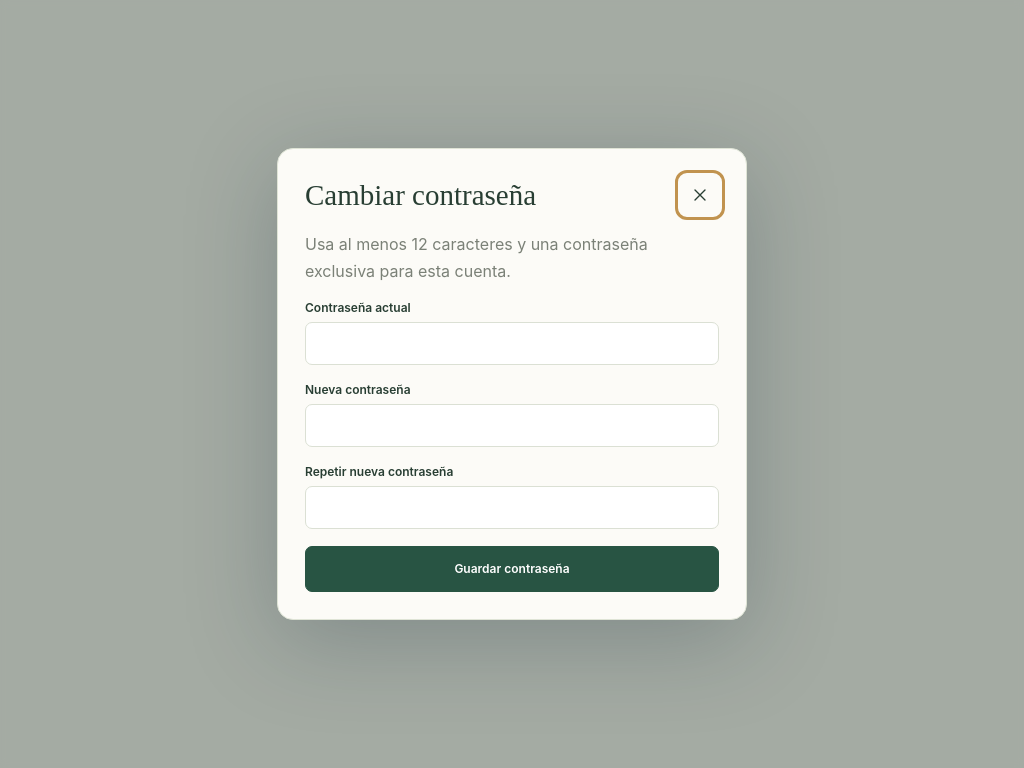
public and private boundaries › requires the current password before updating and revokes other refresh sessions
Type "old-test-only" into the password field labelled "Contraseña actual" at (512, 343), box x1=305 y1=322 x2=719 y2=365
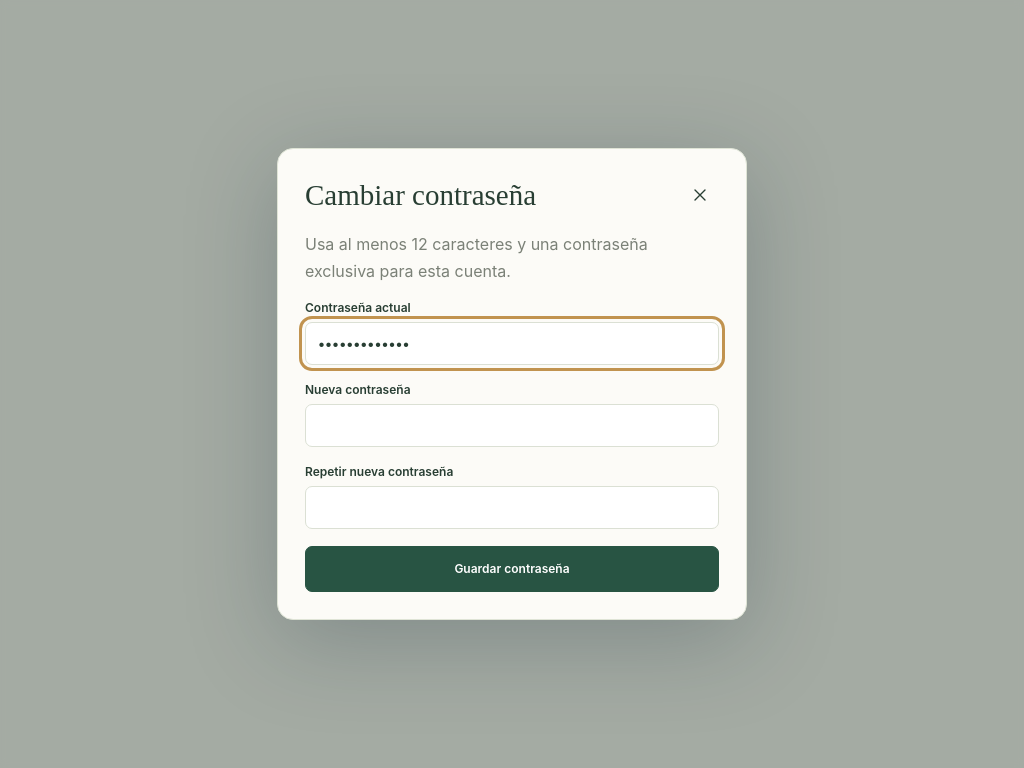
Type "new-test-only-strong" into the password field labelled "Nueva contraseña" at (512, 425), box x1=305 y1=404 x2=719 y2=447
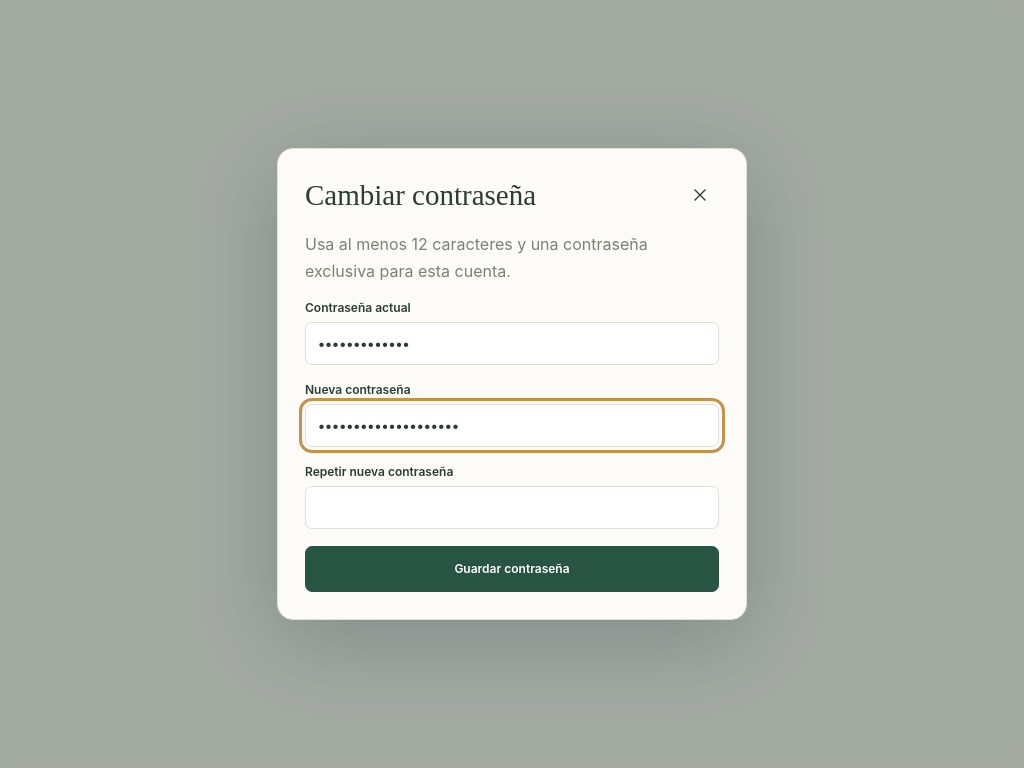
Type "new-test-only-strong" into the password field labelled "Repetir nueva contraseña" at (512, 507), box x1=305 y1=486 x2=719 y2=529
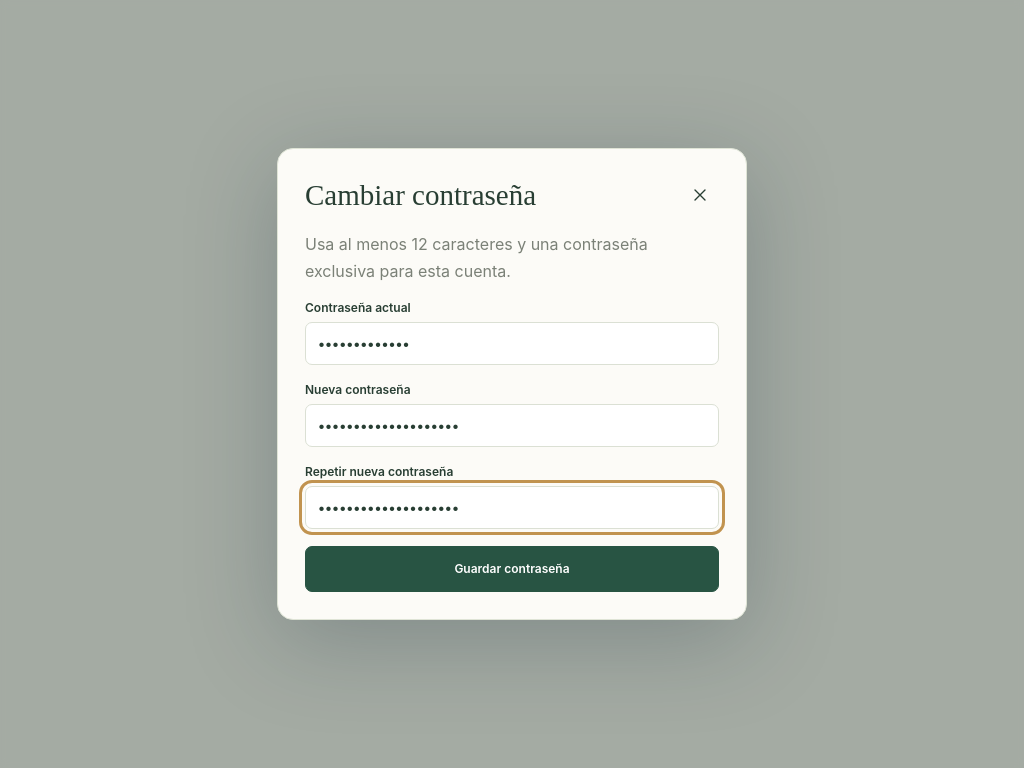
Click the button "Guardar contraseña" at (512, 569), box x1=305 y1=546 x2=719 y2=592
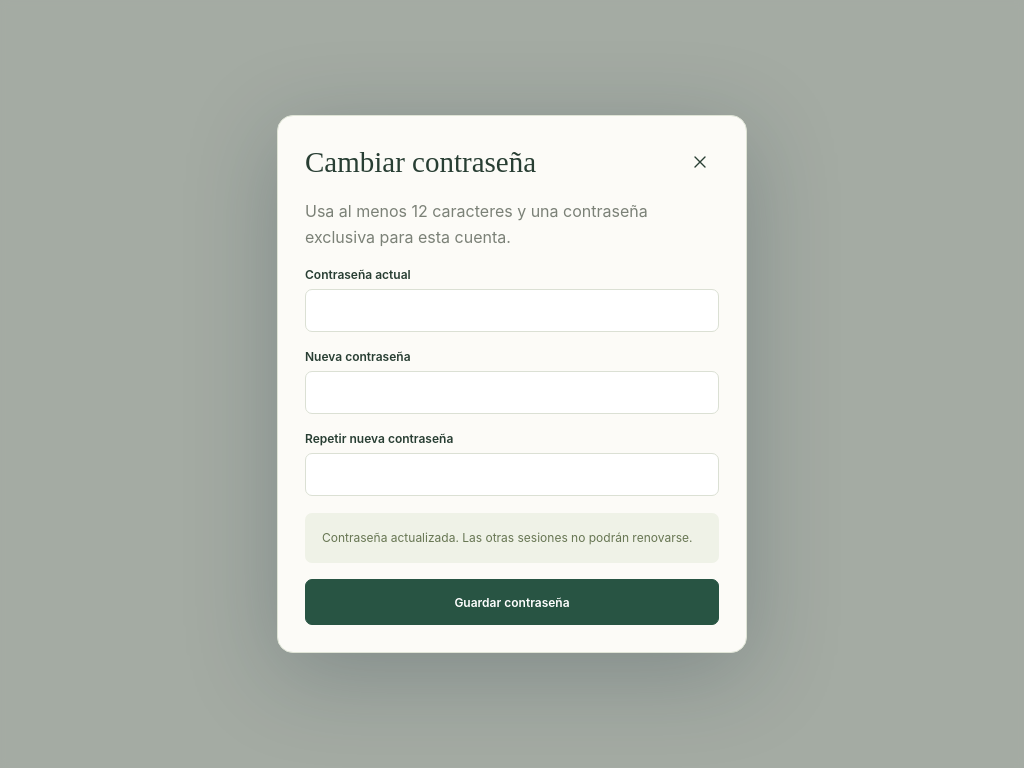
expect the text "Contraseña actualizada. Las otras sesiones no podrán renovarse." is shown: met, box x1=305 y1=513 x2=719 y2=563
